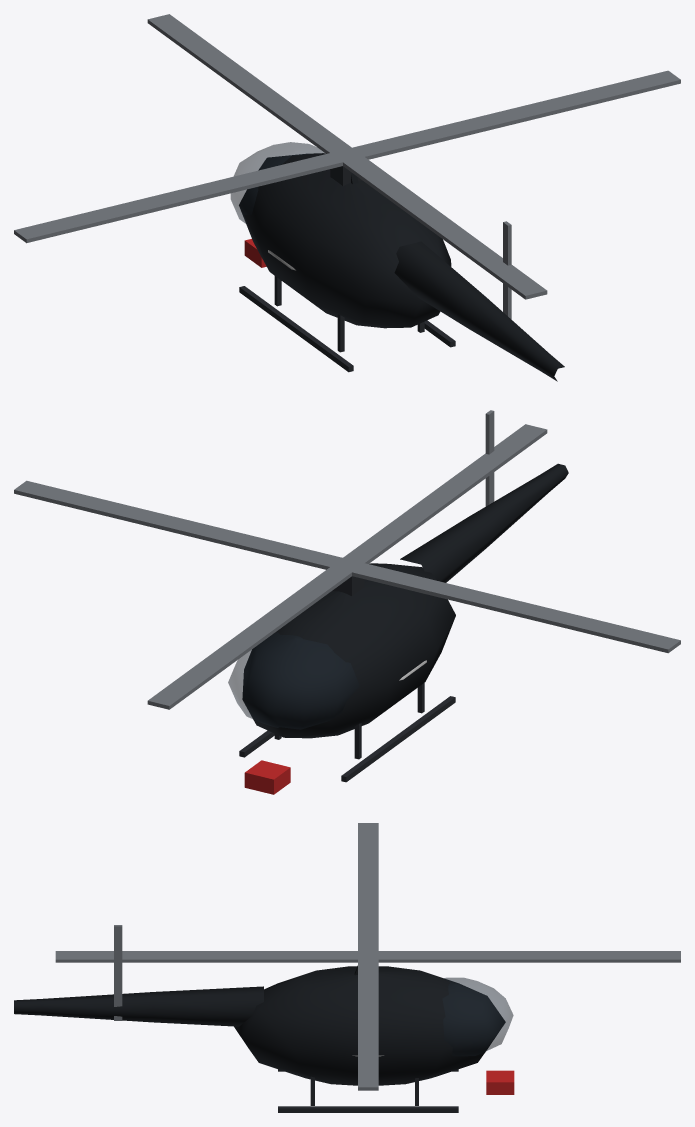
Rendered from mobile.glb.
The picture shows the model from 3 angles, top to bottom: view 1: azimuth 30°, elevation 25°; view 2: azimuth 150°, elevation 25°; view 3: azimuth 270°, elevation 25°; orthographic projection. The views are drawn at different scales.
Visible parts, largest first — view 1: police.heli, rotor_main, rotor_tail; view 2: police.heli, rotor_main, rotor_tail; view 3: police.heli, rotor_main, rotor_tail.
Boxes of the visible parts, bbox=[...] form: police.heli: bbox=[230, 142, 564, 381]; rotor_main: bbox=[14, 14, 680, 299]; rotor_tail: bbox=[503, 221, 511, 319]; police.heli: bbox=[228, 463, 568, 794]; rotor_main: bbox=[14, 424, 680, 709]; rotor_tail: bbox=[485, 410, 494, 506]; police.heli: bbox=[14, 965, 514, 1112]; rotor_main: bbox=[55, 823, 680, 1090]; rotor_tail: bbox=[114, 925, 122, 1020].
Bounding box in the file's own units: 9 × 2.68 × 9.6.
